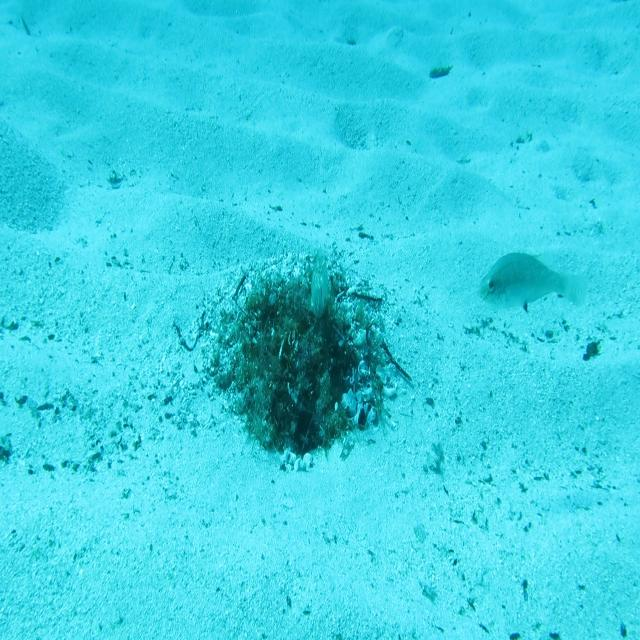NIP_CORE: (308, 244, 330, 326)
core_nest: (273, 298, 326, 342)
female: (476, 250, 590, 318)
nest: (194, 239, 400, 481)
vegetation: (426, 64, 455, 80)
